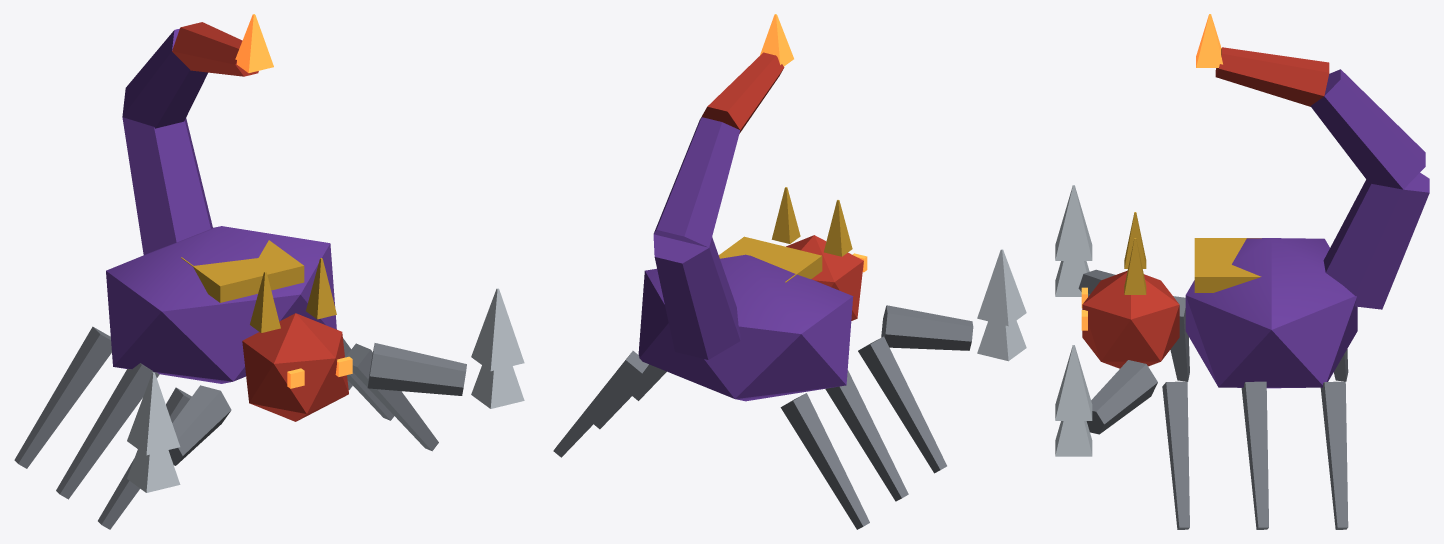
File: scorpion_queen.glb
The picture shows the model from 3 angles, left to right: view 1: azimuth 30°, elevation 25°; view 2: azimuth 150°, elevation 25°; view 3: azimuth 270°, elevation 25°; orthographic projection. The views are drawn at different scales.
Parts seen in each view (by area): view 1: body.004, tail_1, head.005, tail_2, arm_r.004, leg_l2, leg_l1, tail_3, arm_l.004, pincer_l_up, pincer_r_up, leg_r0 (+7 smaller); view 2: body.004, tail_1, tail_2, leg_l2, leg_l0, arm_l.004, tail_3, leg_l1, head.005, leg_r2, pincer_l_up, pincer_l_lo (+4 smaller); view 3: body.004, tail_1, head.005, tail_2, tail_3, leg_r0, leg_r2, leg_r1, arm_r.004, pincer_r_up, pincer_l_up, pincer_r_lo (+6 smaller).
Part boxes in pixels (box(x1,y1,x2,y2)): body.004: box(106, 226, 336, 383); tail_1: box(122, 117, 212, 254); head.005: box(242, 313, 348, 421); tail_2: box(122, 28, 207, 128); arm_r.004: box(367, 343, 466, 395); leg_l2: box(14, 326, 111, 468); leg_l1: box(56, 363, 159, 499); tail_3: box(172, 22, 258, 76); arm_l.004: box(168, 385, 231, 465); pincer_l_up: box(127, 372, 180, 455); pincer_r_up: box(471, 288, 524, 371); leg_r0: box(345, 343, 438, 451); body.004: box(638, 236, 853, 401); tail_1: box(653, 234, 740, 359); tail_2: box(653, 117, 740, 247); leg_l2: box(780, 393, 869, 529); leg_l0: box(858, 336, 946, 473); arm_l.004: box(881, 305, 973, 350); tail_3: box(700, 52, 784, 133); leg_l1: box(825, 370, 908, 501); head.005: box(786, 235, 863, 320); leg_r2: box(553, 351, 648, 457); pincer_l_up: box(977, 249, 1026, 326); pincer_l_lo: box(977, 320, 1026, 361); body.004: box(1185, 238, 1357, 388); tail_1: box(1323, 172, 1429, 309); head.005: box(1082, 270, 1179, 368); tail_2: box(1310, 69, 1425, 189); tail_3: box(1215, 47, 1329, 106); leg_r0: box(1162, 381, 1189, 529); leg_r2: box(1320, 381, 1348, 529); leg_r1: box(1241, 381, 1268, 529); arm_r.004: box(1086, 360, 1157, 434); pincer_r_up: box(1055, 345, 1092, 420); pincer_l_up: box(1055, 185, 1092, 260); pincer_r_lo: box(1055, 421, 1092, 456).
Bounding box in the file's own units: 1.89 × 2.22 × 1.7.
